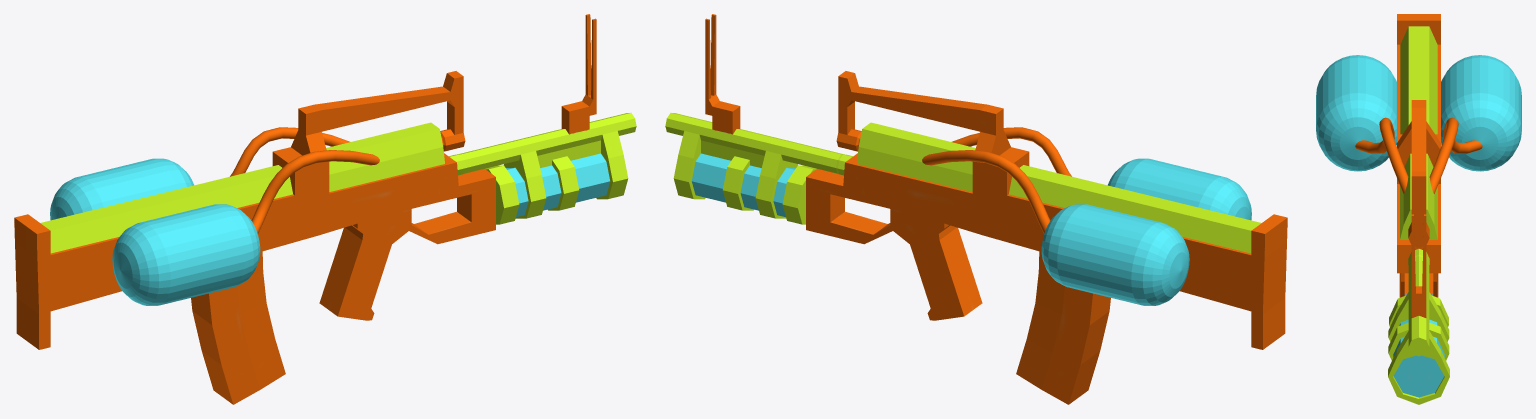
3 views of the same model, side by side, from view 1: azimuth 30°, elevation 25°; view 2: azimuth 150°, elevation 25°; view 3: azimuth 270°, elevation 25° (orthographic). The views are drawn at different scales.
Visible parts, largest first — view 1: Toy Gun, Cylinder, BezierCurve; view 2: Toy Gun, Cylinder, BezierCurve; view 3: Toy Gun, Cylinder, BezierCurve.
Part boxes in pixels (<box>): Toy Gun: <box>14,14,636,404</box>; Cylinder: <box>50,158,260,305</box>; BezierCurve: <box>230,127,379,233</box>; Toy Gun: <box>665,14,1287,404</box>; Cylinder: <box>1041,158,1251,305</box>; BezierCurve: <box>922,127,1071,233</box>; Toy Gun: <box>1388,14,1449,404</box>; Cylinder: <box>1316,55,1521,171</box>; BezierCurve: <box>1355,117,1482,193</box>.
Size of the model in its own units: 486 by 223 by 146.
Materials: 3 (1 with a texture image).
